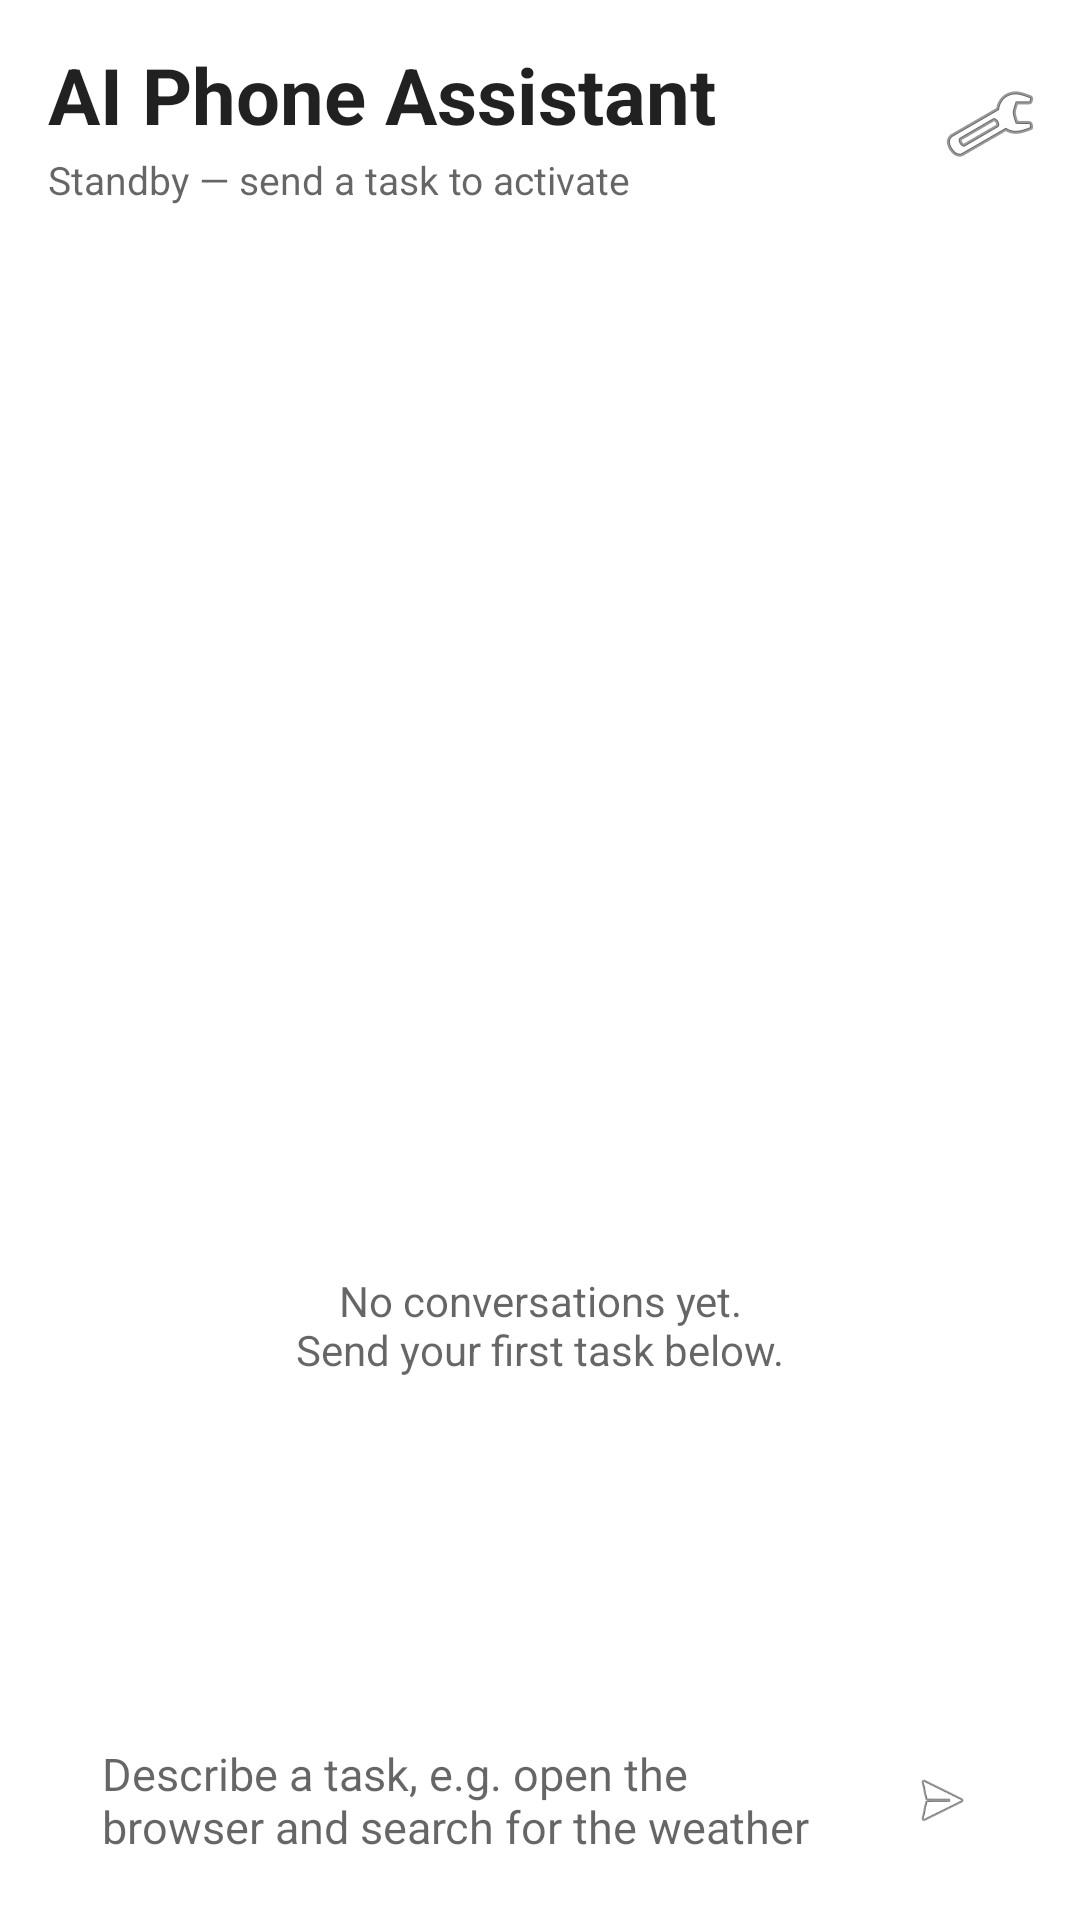

Where icons sit on this 1080px x 1920px app screen, as bbox=(x1, y1, x2, y2):
AI Assistant Settings: bbox=(947, 91, 1033, 157)
